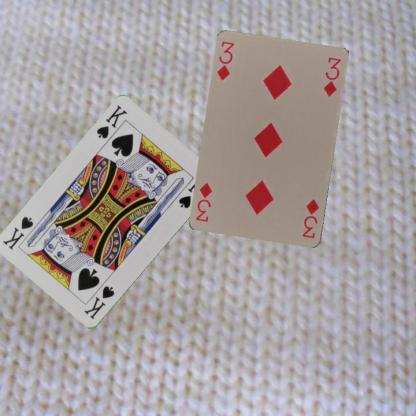3d: (214, 39, 236, 82), (300, 196, 321, 240)
Ks: (93, 103, 128, 141), (81, 283, 115, 321)
